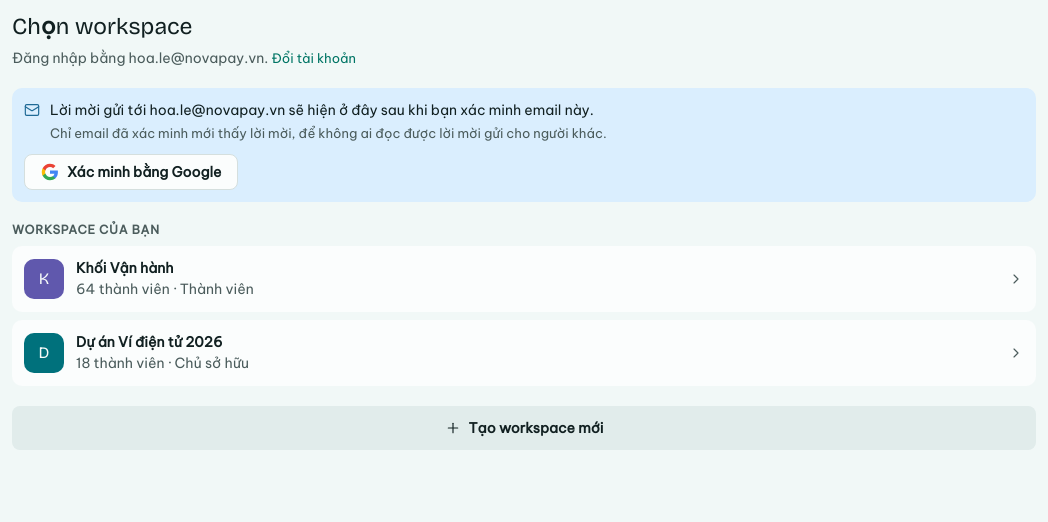
it: Workspace selection: an address nobody has proved › says so when the server cannot start the Google check
Click the button "Xác minh bằng Google" at coordinates (131, 172), box 24,154 -> 238,190
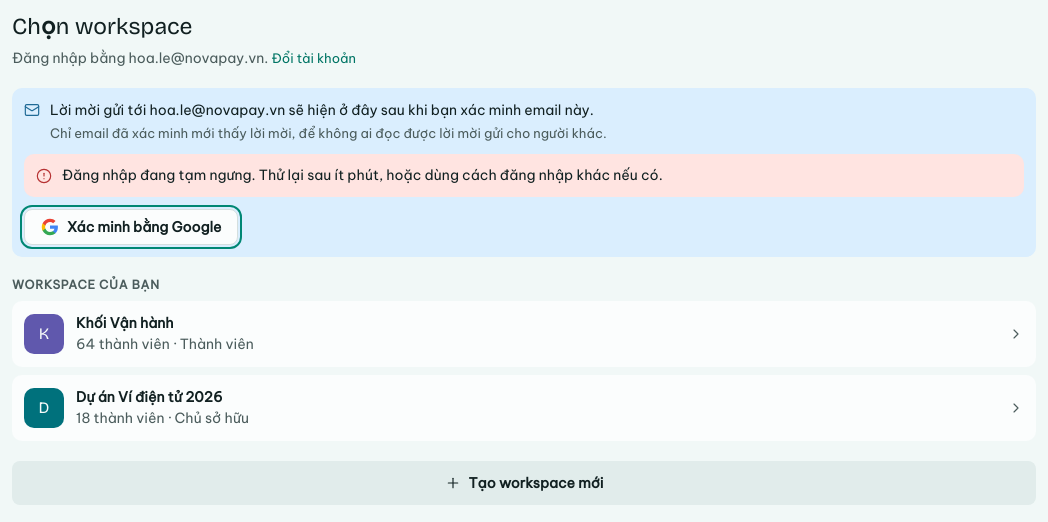
Expected: the message shows "tạm ngưng", 62,166 -> 663,184
